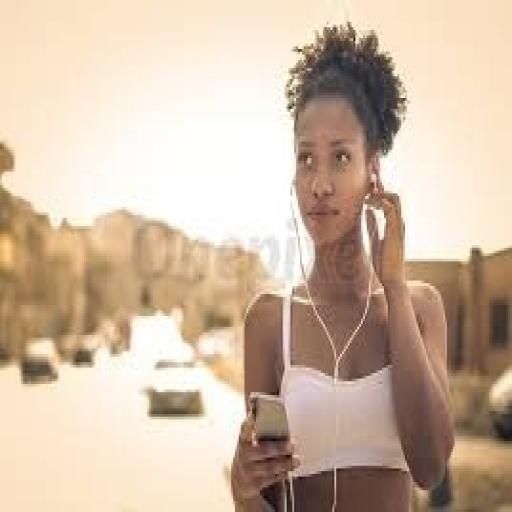listening_to_music: (227, 19, 457, 509)
